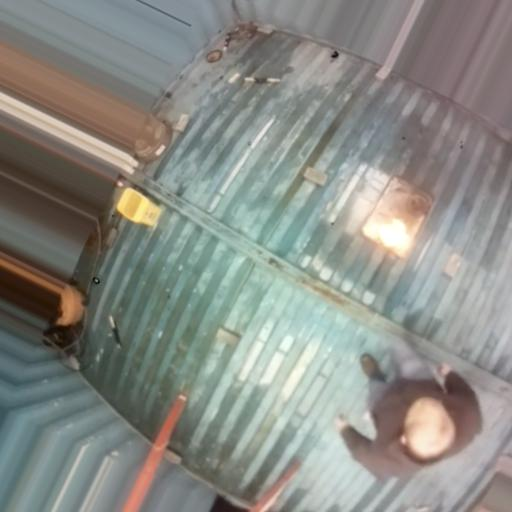Fire: (378, 219, 410, 247)
